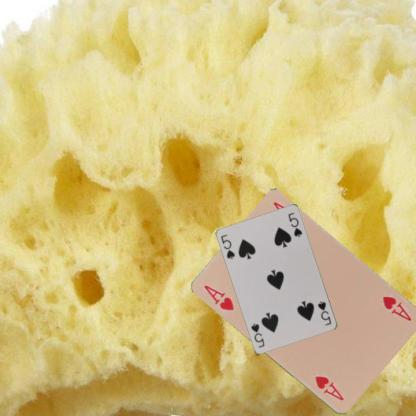5s: (315, 299, 333, 327), (218, 232, 236, 260)
Ah: (201, 282, 235, 312), (379, 293, 413, 322)
